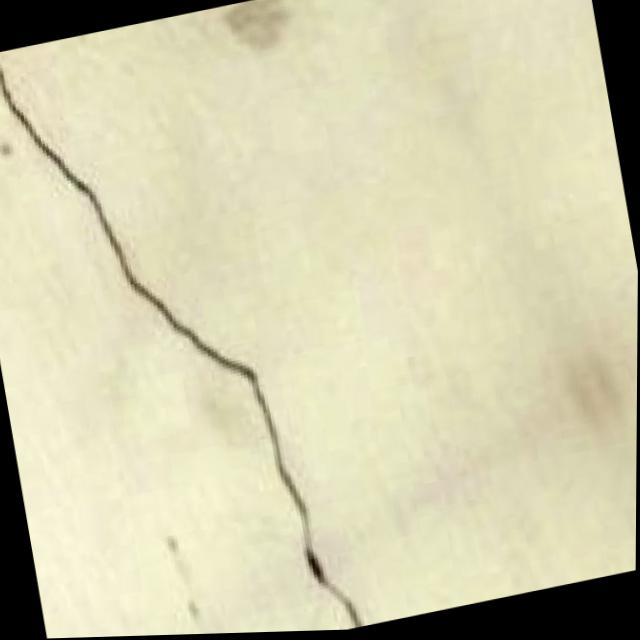Crack: (0, 0, 387, 640)
